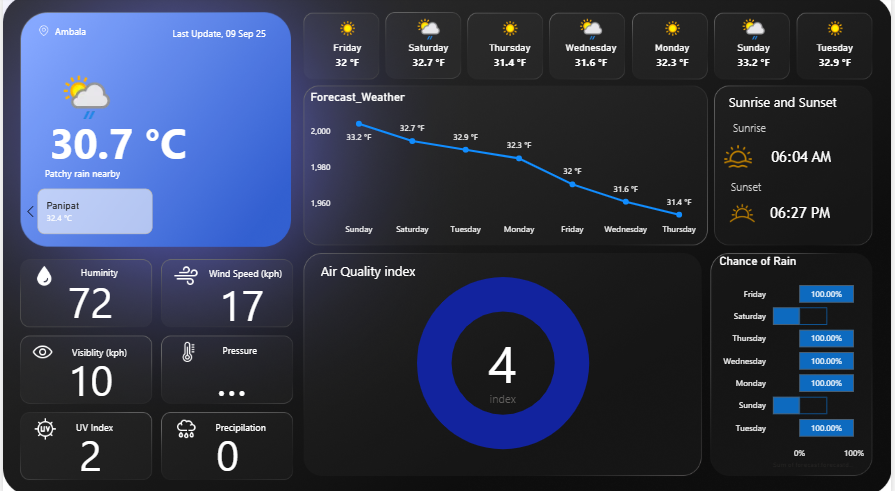

The dashboard page shown, as its layout file describes it:
{"tool":"powerbi","page":{"name":"Page 1","canvas":[1280,720],"ordinal":0},"visuals":[{"type":"advancedSlicerVisual","fields":{"Values":["location.location.name"]},"box":[25,270,393.3,76.7],"z":0},{"type":"shape","box":[60,236.7,210,35],"z":1000},{"type":"shape","box":[60,168.3,210,68.3],"z":2000},{"type":"shape","box":[75.6,31.1,60,34.4],"z":3000},{"type":"shape","box":[226.1,36,152.6,30.2],"z":4000},{"type":"image","box":[43.3,36.7,31.7,25],"z":5000},{"type":"cardVisual","fields":{"Data":["Min(CURRENT.current.condition.icon)"]},"box":[53.3,85,125,103.3],"z":6000},{"type":"image","box":[34.6,489.6,44.6,43.2],"z":7000},{"type":"image","box":[37.4,381.6,44.6,40.3],"z":8000},{"type":"image","box":[37.4,600.5,46.1,43.2],"z":9000},{"type":"image","box":[247.7,489.6,38.9,43.2],"z":10000},{"type":"image","box":[240.5,600.5,46.1,43.2],"z":11000},{"type":"image","box":[240.5,377.3,46.1,47.5],"z":12000},{"type":"shape","box":[286.6,387.4,115.2,20.2],"z":13000},{"type":"shape","box":[79.2,600.5,79.2,38.9],"z":14000},{"type":"shape","box":[299.5,600.5,79.2,38.9],"z":15000},{"type":"shape","box":[313.9,489.6,51.8,38.9],"z":16000},{"type":"shape","box":[92.2,501.1,86.4,20.2],"z":17000},{"type":"shape","box":[86.4,377.3,79.2,38.9],"z":18000},{"type":"card","fields":{"Values":["Sum(CURRENT.current.humidity)"]},"box":[83.5,401.8,85,67.7],"z":19000},{"type":"card","fields":{"Values":["Sum(CURRENT.current.wind_kph)"]},"box":[301.7,406.7,85,68.3],"z":20000},{"type":"card","fields":{"Values":["Sum(CURRENT.current.vis_km)"]},"box":[83.5,514.1,85,67.7],"z":21000},{"type":"card","fields":{"Values":["Sum(CURRENT.current.pressure_in)"]},"box":[286.6,514.1,85,67.7],"z":22000},{"type":"card","fields":{"Values":["Sum(CURRENT.current.uv)"]},"box":[83.5,622.1,85,67.7],"z":23000},{"type":"card","fields":{"Values":["Sum(CURRENT.current.precip_mm)"]},"box":[280.8,622.1,85,67.7],"z":24000},{"type":"lineChart","title":"Forecast_Weather","fields":{"Category":["FORCAST_DAY.day_name"],"Y":["Sum(FORCAST_DAY.forecast.forecastday.day.avgtemp_f)"]},"box":[437.8,133.9,571.7,218.9],"z":25000},{"type":"advancedSlicerVisual","fields":{"Values":["FORCAST_DAY.day_name"]},"box":[436.3,20.2,822.2,99.4],"z":26000},{"type":"shape","box":[1032.5,133.9,168.5,33.1],"z":27000},{"type":"shape","box":[1097.3,214.6,103.7,30.2],"z":28000},{"type":"shape","box":[1032.5,172.8,85,30.2],"z":29000},{"type":"shape","box":[1095.8,290.9,103.7,40.3],"z":30000},{"type":"shape","box":[1022.4,252,95,40.3],"z":31000},{"type":"image","box":[1032.5,204.5,51.8,50.4],"z":32000},{"type":"image","box":[1032.5,282.2,63.4,57.6],"z":33000},{"type":"shape","box":[453.3,376.7,140,33.3],"z":34000},{"type":"hundredPercentStackedBarChart","title":"Chance of Rain","fields":{"Category":["FORCAST_DAY.day_name"],"Y":["Sum(FORCAST_DAY.forecast.forecastday.day.daily_chance_of_rain)","Measure.left_value_rain"]},"box":[1026.7,370,218.3,313.3],"z":35000},{"type":"donutChart","fields":{"Y":["Measure.left_value_rain","CountNonNull(location.location.name)"]},"box":[433.3,366.7,573.3,320],"z":36000},{"type":"card","fields":{"Values":["Sum(CURRENT.current.air_quality.us-epa-index)"]},"box":[685,476.7,68.3,113.3],"z":37000}]}

Visuals, with their boxes in screenshot pixels (x1, y1, x2, y2), scaled from the page's 1280x720 canvas onto the 895x491 screenshot:
advancedSlicerVisual - location.location.name: BBox(17, 184, 292, 236)
shape: BBox(42, 161, 189, 185)
shape: BBox(42, 115, 189, 161)
shape: BBox(53, 21, 95, 45)
shape: BBox(158, 25, 265, 45)
image: BBox(30, 25, 52, 42)
cardVisual - Min(CURRENT.current.condition.icon): BBox(37, 58, 125, 128)
image: BBox(24, 334, 55, 363)
image: BBox(26, 260, 57, 288)
image: BBox(26, 410, 58, 439)
image: BBox(173, 334, 200, 363)
image: BBox(168, 410, 200, 439)
image: BBox(168, 257, 200, 290)
shape: BBox(200, 264, 281, 278)
shape: BBox(55, 410, 111, 436)
shape: BBox(209, 410, 265, 436)
shape: BBox(219, 334, 256, 360)
shape: BBox(64, 342, 125, 355)
shape: BBox(60, 257, 116, 284)
card - Sum(CURRENT.current.humidity): BBox(58, 274, 118, 320)
card - Sum(CURRENT.current.wind_kph): BBox(211, 277, 270, 324)
card - Sum(CURRENT.current.vis_km): BBox(58, 351, 118, 397)
card - Sum(CURRENT.current.pressure_in): BBox(200, 351, 260, 397)
card - Sum(CURRENT.current.uv): BBox(58, 424, 118, 470)
card - Sum(CURRENT.current.precip_mm): BBox(196, 424, 256, 470)
"Forecast_Weather" lineChart: BBox(306, 91, 706, 241)
advancedSlicerVisual - FORCAST_DAY.day_name: BBox(305, 14, 880, 82)
shape: BBox(722, 91, 840, 114)
shape: BBox(767, 146, 840, 167)
shape: BBox(722, 118, 781, 138)
shape: BBox(766, 198, 839, 226)
shape: BBox(715, 172, 781, 199)
image: BBox(722, 139, 758, 174)
image: BBox(722, 192, 766, 232)
shape: BBox(317, 257, 415, 280)
"Chance of Rain" hundredPercentStackedBarChart: BBox(718, 252, 871, 466)
donutChart - Measure.left_value_rain x CountNonNull(location.location.name): BBox(303, 250, 704, 468)
card - Sum(CURRENT.current.air_quality.us-epa-index): BBox(479, 325, 527, 402)
